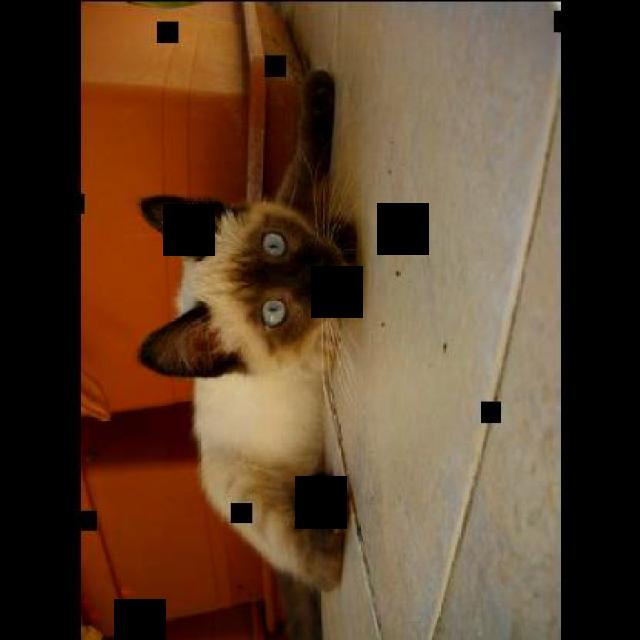unauthorized: (136, 66, 362, 639)
